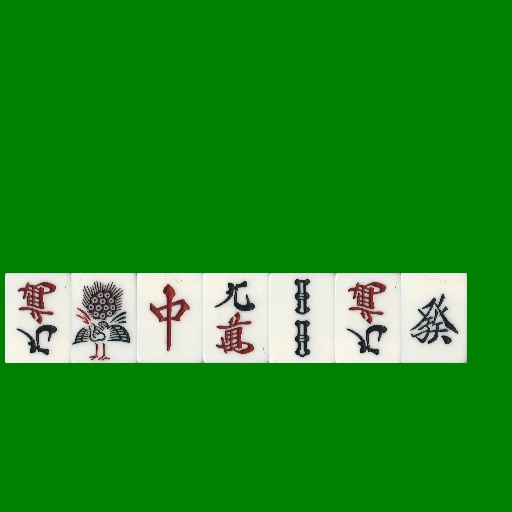1s: (71, 273, 137, 363)
2s: (269, 273, 335, 363)
9m: (5, 273, 71, 363), (203, 273, 269, 363), (335, 273, 401, 363)
hatsu: (401, 273, 467, 363)
tyun: (137, 273, 203, 363)
